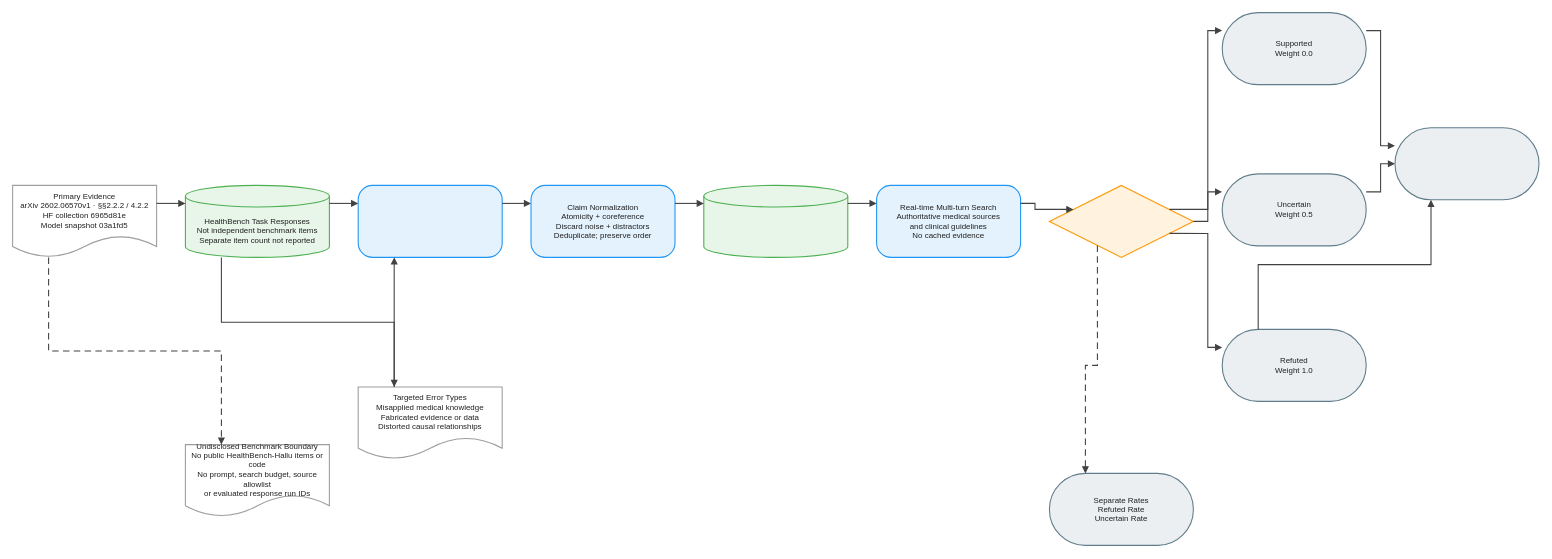
Some shapes in this 1552 by 559 pixel diagram are drawn without their labels. The centre of each missing label's shape, as x and y in pixels:
"Atomic Claims Self-contained Independently verifiable" belongs at (775,221).
"Evidence Verdict Supported / Uncertain / Refuted" belongs at (1121,221).
"GPT-5 High-precision Claim Extraction Maximize fine-grained coverage" belongs at (429,221).
"Weighted Hallucination Rate H = sum claim weights / total claims" belongs at (1466,163).
